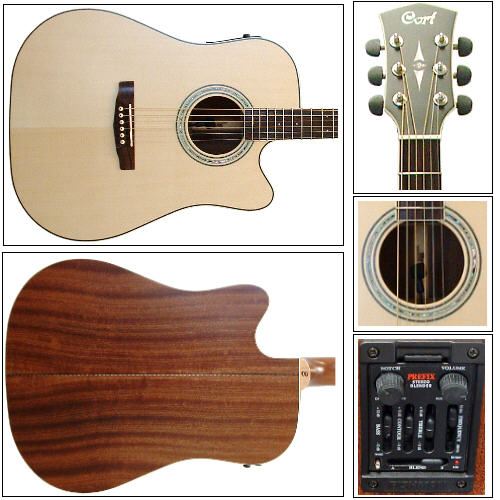guitar: (6, 259, 341, 491), (2, 9, 338, 239), (360, 2, 479, 188), (356, 202, 488, 327)
